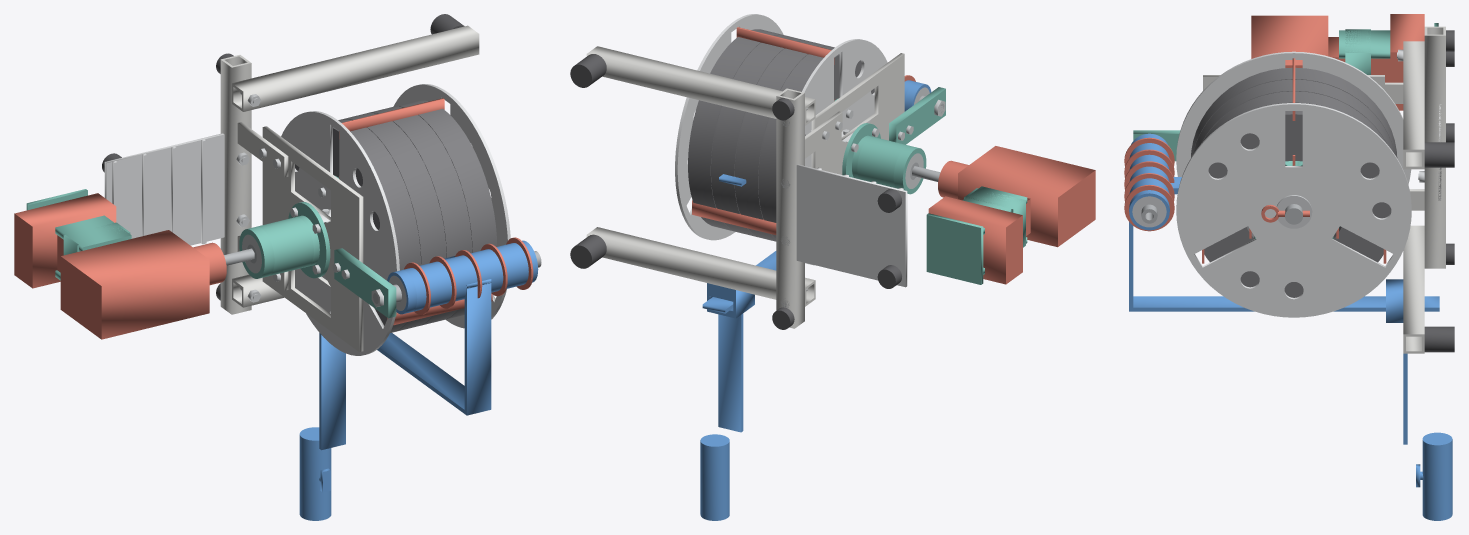
The model's file is Navaneeth_Compact_40M_v2_Assembled.glb.
The picture shows the model from 3 angles, left to right: view 1: azimuth 30°, elevation 25°; view 2: azimuth 150°, elevation 25°; view 3: azimuth 270°, elevation 25°; orthographic projection. The views are drawn at different scales.
Visible parts, largest first — view 1: REF-02_INGCO CIDLI12206 12V Bohrschrauber, REF-01_40m ALLWIN GOLD Tropfband-Rolle (4-Spur), REF-03_Stationaerer Ventilanschluss & Bandpfad (REV-07), P-20_Fussplatte Z=12..18 (REV-05), P-01_Hinterer Flansch mit Nabe (REV-01/03), P-19_Bodenschienen Links & Rechts, P-11_Haupt-Chassisplatte, P-18_Quertraeger Hohlprofil 20x20, P-15_Band-Fuehrungsrolle d=38mm (REV-02), P-09_Abgesetztes Lagergehaeuse (REV-03), P-04_Vorderer Schutzflansch (REV-01), P-21_Bohrschrauber-Drehmomentstuetze (REV-04) (+6 smaller); view 2: REF-01_40m ALLWIN GOLD Tropfband-Rolle (4-Spur), REF-02_INGCO CIDLI12206 12V Bohrschrauber, P-19_Bodenschienen Links & Rechts, P-20_Fussplatte Z=12..18 (REV-05), REF-03_Stationaerer Ventilanschluss & Bandpfad (REV-07), P-18_Quertraeger Hohlprofil 20x20, P-21_Bohrschrauber-Drehmomentstuetze (REV-04), P-11_Haupt-Chassisplatte, P-01_Hinterer Flansch mit Nabe (REV-01/03), P-04_Vorderer Schutzflansch (REV-01), P-23_Elastomer-Standfuesse & Pads (REV-05), P-09_Abgesetztes Lagergehaeuse (REV-03) (+5 smaller); view 3: P-04_Vorderer Schutzflansch (REV-01), REF-01_40m ALLWIN GOLD Tropfband-Rolle (4-Spur), REF-03_Stationaerer Ventilanschluss & Bandpfad (REV-07), P-19_Bodenschienen Links & Rechts, REF-02_INGCO CIDLI12206 12V Bohrschrauber, P-01_Hinterer Flansch mit Nabe (REV-01/03), P-18_Quertraeger Hohlprofil 20x20, P-23_Elastomer-Standfuesse & Pads (REV-05), P-16_4-Spur-Bandfuehrungsschlitten (REV-06), P-21_Bohrschrauber-Drehmomentstuetze (REV-04), P-15_Band-Fuehrungsrolle d=38mm (REV-02), P-22_Ventil-Zugentlastungsklemme (+5 smaller).
Part boxes in pixels (x1,y1,x2,y2): REF-02_INGCO CIDLI12206 12V Bohrschrauber: (14, 193, 226, 339); REF-01_40m ALLWIN GOLD Tropfband-Rolle (4-Spur): (295, 100, 497, 332); REF-03_Stationaerer Ventilanschluss & Bandpfad (REV-07): (299, 256, 491, 520); P-20_Fussplatte Z=12..18 (REV-05): (104, 133, 224, 245); P-01_Hinterer Flansch mit Nabe (REV-01/03): (281, 111, 399, 355); P-19_Bodenschienen Links & Rechts: (232, 25, 479, 307); P-11_Haupt-Chassisplatte: (262, 126, 363, 351); P-18_Quertraeger Hohlprofil 20x20: (220, 55, 251, 314); P-15_Band-Fuehrungsrolle d=38mm (REV-02): (387, 240, 538, 314); P-09_Abgesetztes Lagergehaeuse (REV-03): (239, 202, 330, 278); P-04_Vorderer Schutzflansch (REV-01): (393, 84, 510, 328); P-21_Bohrschrauber-Drehmomentstuetze (REV-04): (26, 189, 131, 280); REF-01_40m ALLWIN GOLD Tropfband-Rolle (4-Spur): (688, 29, 874, 241); REF-02_INGCO CIDLI12206 12V Bohrschrauber: (928, 146, 1095, 284); P-19_Bodenschienen Links & Rechts: (586, 46, 815, 306); P-20_Fussplatte Z=12..18 (REV-05): (796, 164, 907, 287); REF-03_Stationaerer Ventilanschluss & Bandpfad (REV-07): (700, 174, 776, 520); P-18_Quertraeger Hohlprofil 20x20: (776, 88, 804, 328); P-21_Bohrschrauber-Drehmomentstuetze (REV-04): (926, 186, 1027, 284); P-11_Haupt-Chassisplatte: (811, 53, 904, 174); P-01_Hinterer Flansch mit Nabe (REV-01/03): (802, 39, 887, 265); P-04_Vorderer Schutzflansch (REV-01): (675, 14, 783, 240); P-23_Elastomer-Standfuesse & Pads (REV-05): (570, 54, 901, 329); P-09_Abgesetztes Lagergehaeuse (REV-03): (842, 123, 926, 194); P-04_Vorderer Schutzflansch (REV-01): (1176, 103, 1411, 317); REF-01_40m ALLWIN GOLD Tropfband-Rolle (4-Spur): (1191, 67, 1397, 297); REF-03_Stationaerer Ventilanschluss & Bandpfad (REV-07): (1129, 177, 1452, 520); P-19_Bodenschienen Links & Rechts: (1403, 41, 1424, 353); REF-02_INGCO CIDLI12206 12V Bohrschrauber: (1251, 14, 1424, 110); P-01_Hinterer Flansch mit Nabe (REV-01/03): (1176, 51, 1411, 184); P-18_Quertraeger Hohlprofil 20x20: (1424, 26, 1445, 268); P-23_Elastomer-Standfuesse & Pads (REV-05): (1424, 30, 1454, 352); P-16_4-Spur-Bandfuehrungsschlitten (REV-06): (1124, 137, 1174, 231); P-21_Bohrschrauber-Drehmomentstuetze (REV-04): (1339, 23, 1438, 74); P-15_Band-Fuehrungsrolle d=38mm (REV-02): (1129, 133, 1169, 230); P-22_Ventil-Zugentlastungsklemme: (1386, 279, 1403, 322).
Size of the model in its own units: 468 by 460 by 308.
